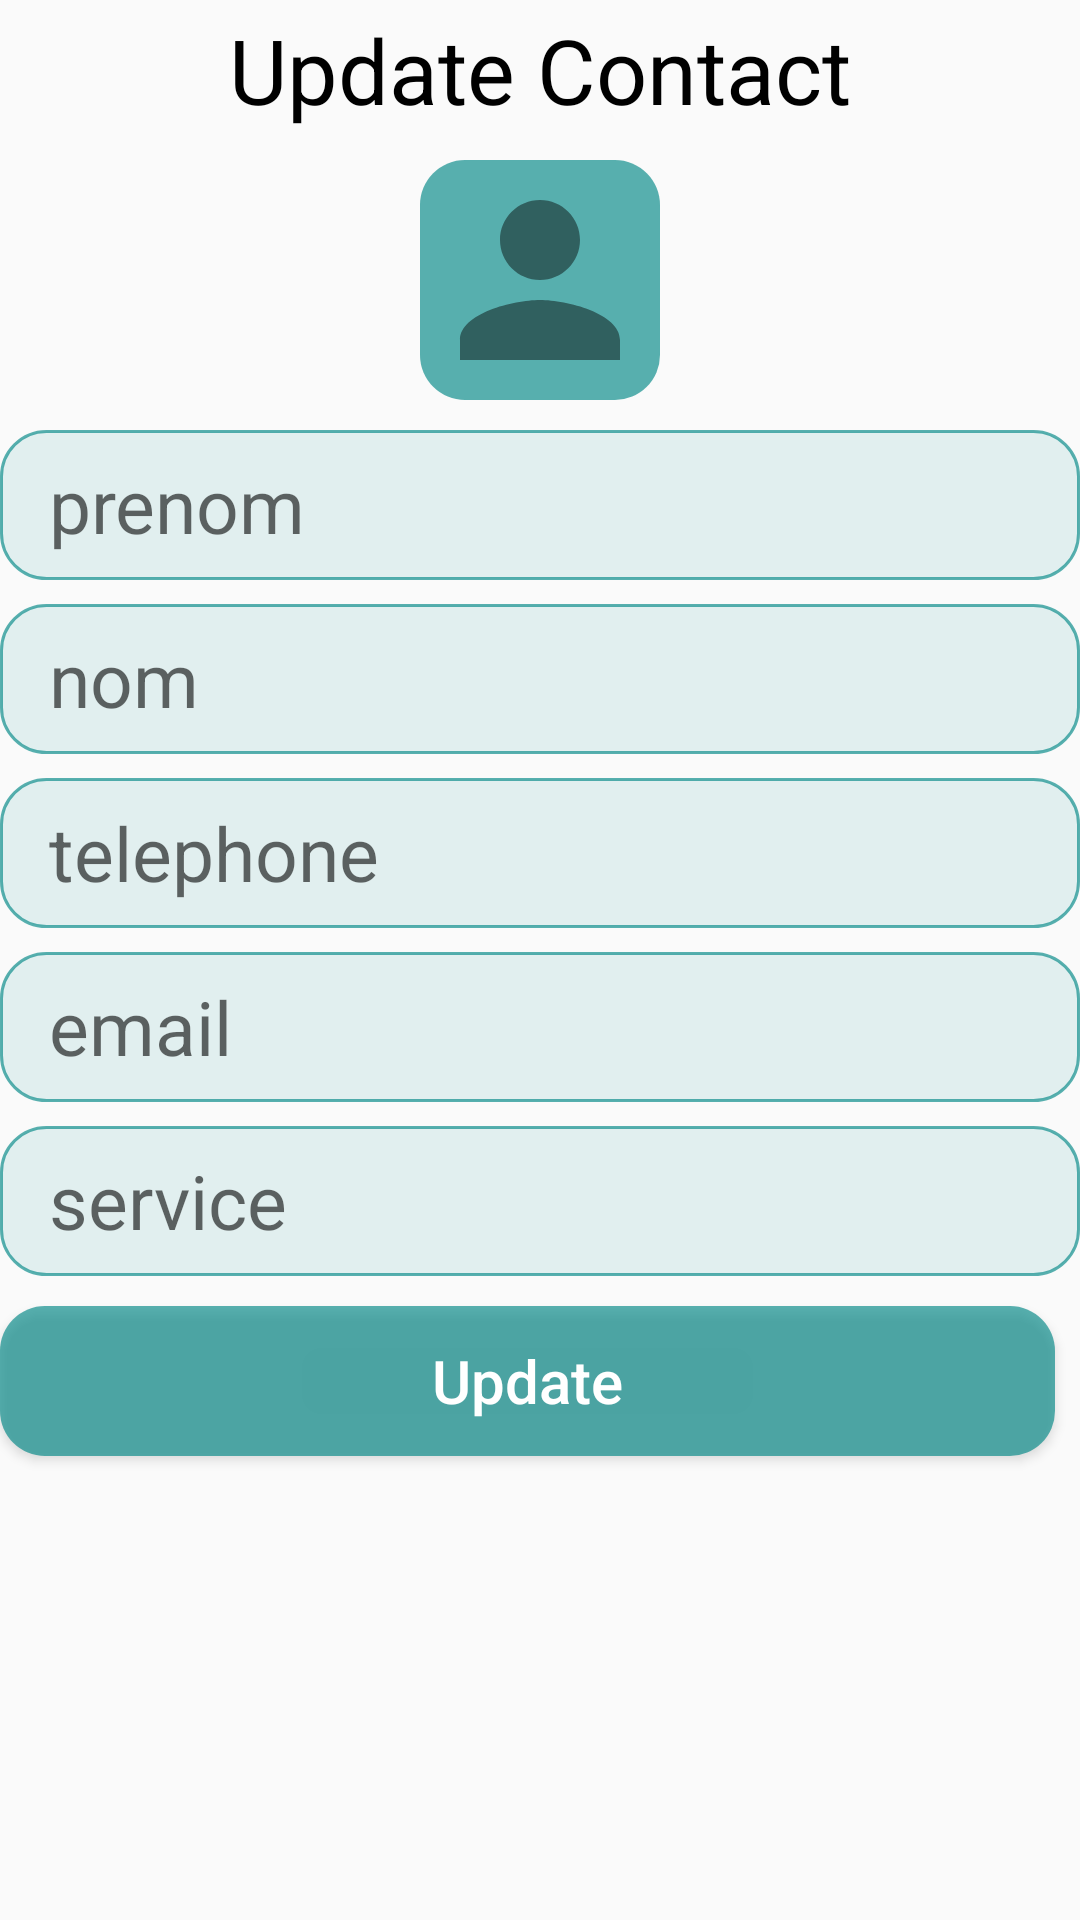

Icons on this 1080*1920 Android screen, each with its box as (x1, y1, x2, y2):
person: (420, 160, 660, 400)
